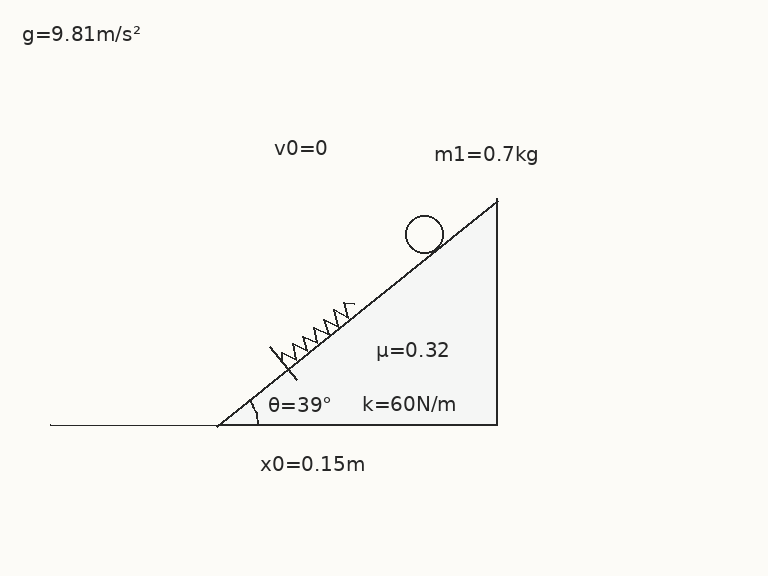ball: (403, 213, 445, 255)
ramp: (216, 198, 498, 427)
spring: (280, 300, 356, 364)
